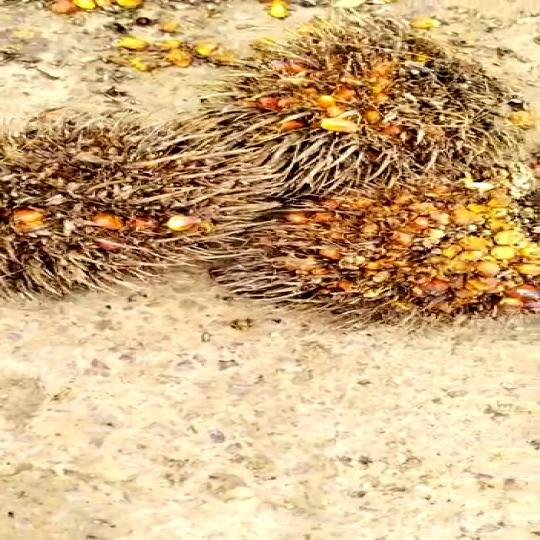terlalu masak: (197, 28, 525, 206), (202, 178, 540, 312), (0, 128, 229, 295)
